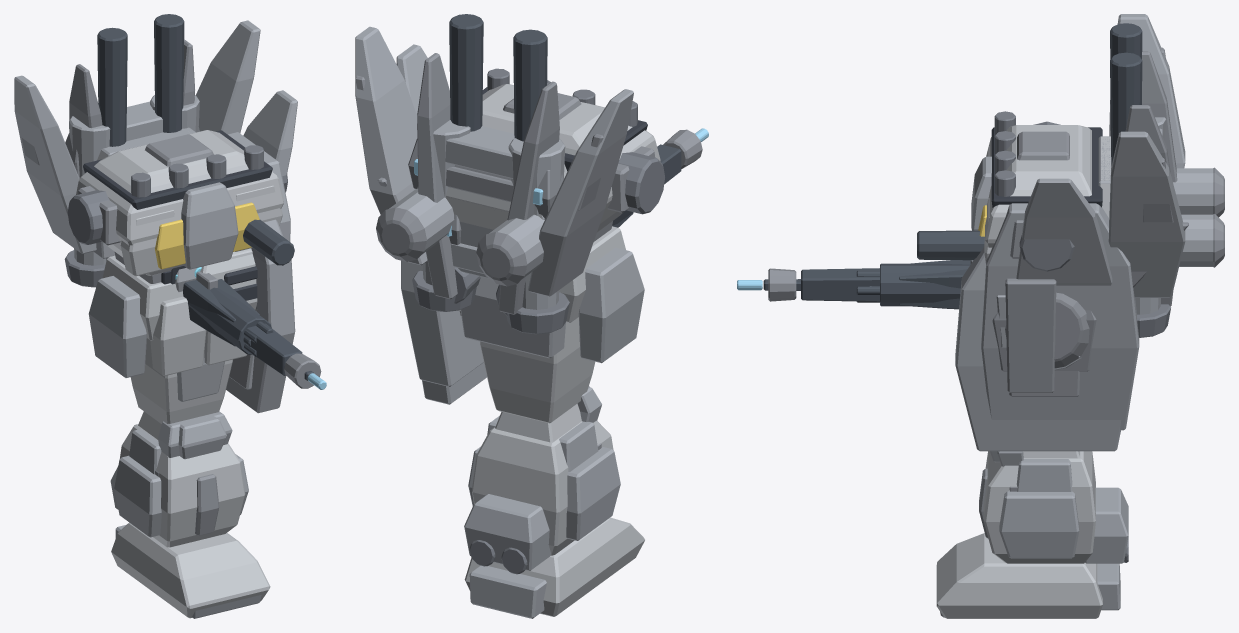
The model's file is mechparts.glb.
3 views of the same model, side by side, from view 1: azimuth 30°, elevation 25°; view 2: azimuth 150°, elevation 25°; view 3: azimuth 270°, elevation 25° (orthographic). The views are drawn at different scales.
Visible parts, largest first — view 1: leg, torso, bk_wings, pelvis, bk_cannon, sh_shieldplate, gun_cannon, bk_booster, sh_wing, gun_gatling, bk_blades, torso_duct (+9 smaller); view 2: leg, bk_wings, pelvis, bk_blades, bk_cannon, torso, bk_tank, bk_booster, leg_calf, sh_binder, arm, bk_pack (+6 smaller); view 3: leg, sh_binder, bk_wings, torso, sh_shieldplate, sh_wing, gun_cannon, bk_tank, bk_cannon, gun_gatling, bk_blades, leg_calf (+7 smaller).
Boxes of the visible parts, box(x1,y1,x2,y2) form: leg: box(111, 338, 270, 618); torso: box(67, 130, 287, 283); bk_wings: box(14, 20, 260, 257); pelvis: box(88, 255, 247, 377); bk_cannon: box(97, 14, 184, 146); sh_shieldplate: box(226, 219, 295, 413); gun_cannon: box(183, 279, 321, 388); bk_booster: box(64, 95, 199, 287); sh_wing: box(243, 90, 297, 175); gun_gatling: box(188, 287, 273, 356); bk_blades: box(69, 39, 194, 260); torso_duct: box(155, 202, 259, 269); leg: box(464, 317, 644, 618); bk_wings: box(355, 26, 633, 296); pelvis: box(460, 226, 644, 363); bk_blades: box(417, 53, 559, 314); bk_cannon: box(445, 14, 547, 218); torso: box(482, 84, 664, 241); bk_tank: box(376, 189, 544, 286); bk_booster: box(412, 120, 569, 334); leg_calf: box(464, 494, 550, 574); sh_binder: box(401, 260, 483, 386); arm: box(487, 403, 601, 471); bk_pack: box(446, 164, 567, 273); leg: box(936, 451, 1120, 618); sh_binder: box(981, 203, 1139, 430); bk_wings: box(1098, 14, 1185, 297); torso: box(971, 121, 1102, 271); sh_shieldplate: box(955, 246, 1121, 451); sh_wing: box(1016, 178, 1112, 285); gun_cannon: box(768, 260, 970, 309); bk_tank: box(1173, 167, 1224, 267); bk_cannon: box(1101, 23, 1162, 179); gun_gatling: box(856, 263, 970, 306); bk_blades: box(1125, 51, 1177, 306); leg_calf: box(1085, 487, 1128, 563).
Bounding box in the file's own units: 1.24 × 2.64 × 2.1.
